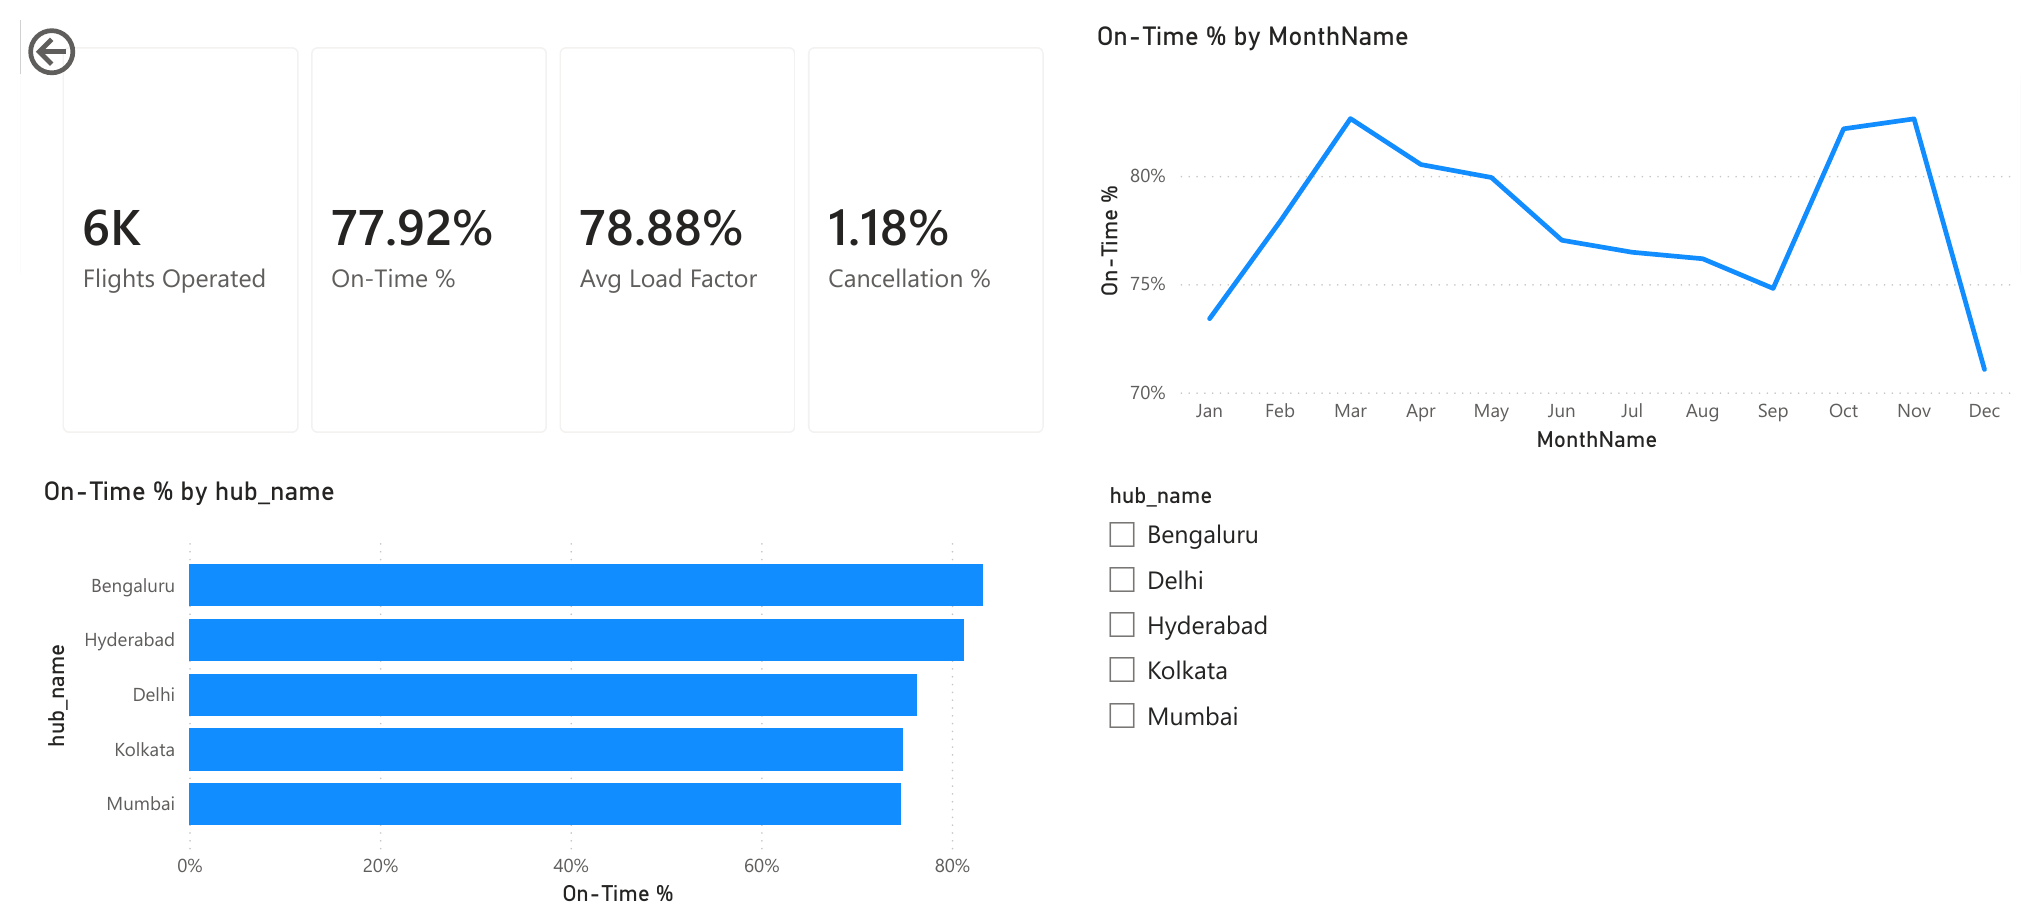

The dashboard page shown, as its layout file describes it:
{"tool":"powerbi","page":{"name":"Overview","canvas":[1280,720],"ordinal":0},"visuals":[{"type":"cardVisual","fields":{"Data":["Fact_Flights.Flights Operated","Fact_Flights.On-Time %","Fact_Flights.Avg Load Factor","Fact_Flights.Cancellation %"]},"box":[10.1,0,663.5,280.5],"z":0},{"type":"clusteredBarChart","fields":{"Category":["Dim_Hub.hub_name"],"Y":["Fact_Flights.On-Time %"]},"box":[10,291,664,281],"z":1000},{"type":"lineChart","fields":{"Category":["Dim_Date.MonthName"],"Y":["Fact_Flights.On-Time %"]},"box":[684,0,596,281],"z":2000},{"type":"slicer","fields":{"Values":["Dim_Hub.hub_name"]},"box":[684,291,596,281],"z":3000},{"type":"actionButton","box":[0,0,100,40],"z":4000}]}

Visuals, with their boxes on the page's 1280x720 design canvas (x1, y1, x2, y2). These are canvas units, not pixel positions in the 2041x922 screenshot, which may show the page scaled, cropped or inside an application window:
cardVisual - Fact_Flights.Flights Operated x Fact_Flights.On-Time %: locate(10, 0, 674, 280)
clusteredBarChart - Dim_Hub.hub_name x Fact_Flights.On-Time %: locate(10, 291, 674, 572)
lineChart - Dim_Date.MonthName x Fact_Flights.On-Time %: locate(684, 0, 1280, 281)
slicer - Dim_Hub.hub_name: locate(684, 291, 1280, 572)
actionButton: locate(0, 0, 100, 40)
